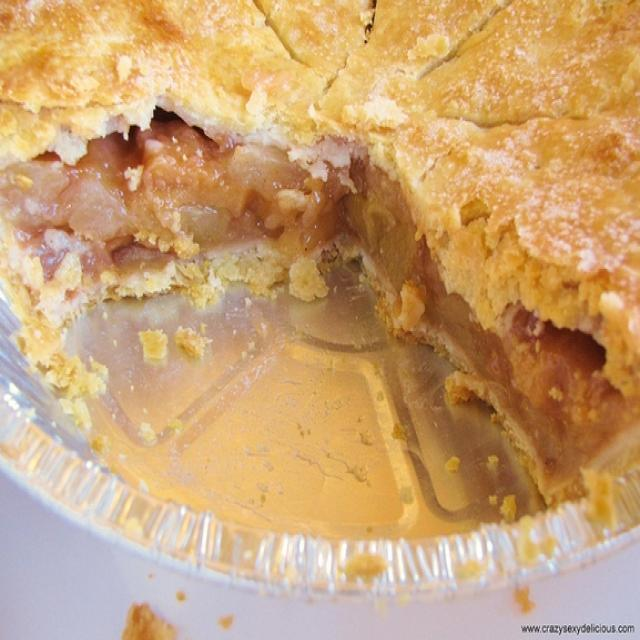Apple: (8, 5, 640, 416)
